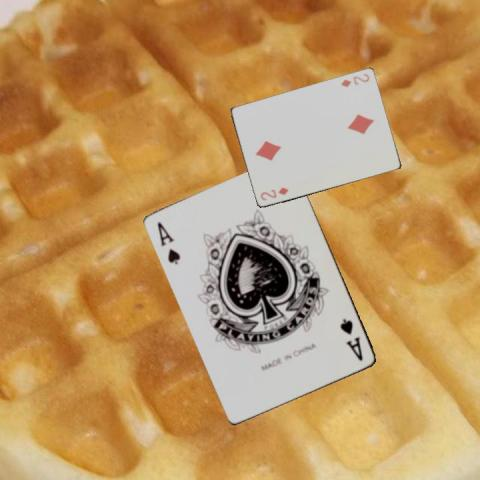2d: (338, 70, 371, 88), (257, 184, 290, 201)
As: (337, 315, 365, 363), (155, 219, 182, 267)
